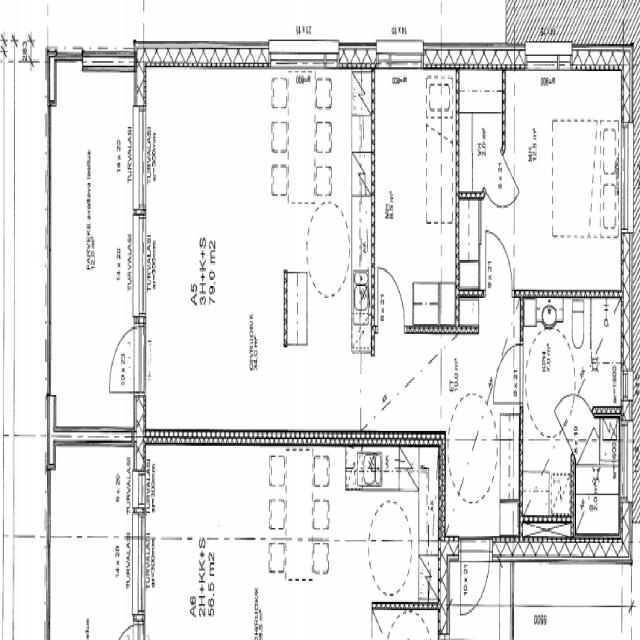door: (458, 535, 492, 620), (106, 324, 141, 397), (375, 262, 407, 332), (482, 225, 514, 293), (493, 342, 522, 406)
window: (268, 37, 341, 67), (133, 206, 147, 321), (620, 122, 634, 235), (134, 100, 147, 214), (377, 43, 426, 73), (522, 49, 569, 73)
zone: (141, 44, 374, 440), (47, 60, 138, 448), (506, 76, 626, 297), (374, 67, 457, 333), (519, 295, 624, 469), (457, 72, 508, 202), (574, 444, 622, 556)
